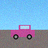vehicle: (11, 25, 35, 39)
